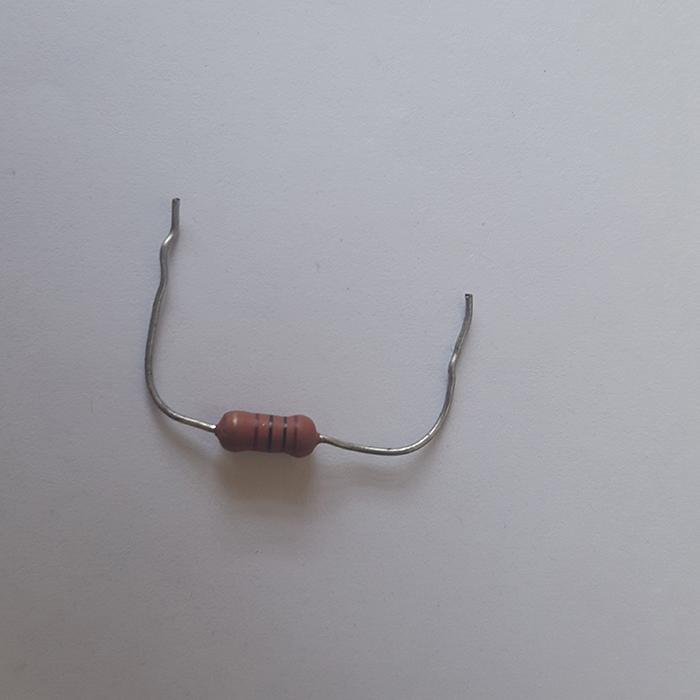resistor: (213, 410, 318, 456)
